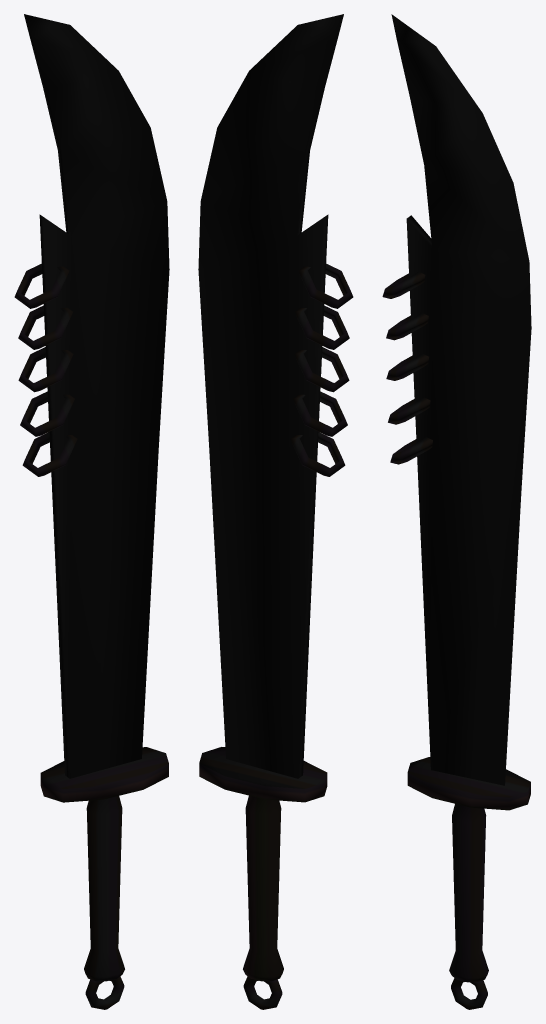
Rendered from fms.fbx.
3 renders of one model, left to right at view 1: azimuth 30°, elevation 25°; view 2: azimuth 150°, elevation 25°; view 3: azimuth 330°, elevation 25°, orthographic. The views are drawn at different scales.
Parts seen in each view (by area): view 1: 0node.001; view 2: 0node.001; view 3: 0node.001.
Boxes of the visible parts, box(x1,y1,x2,y2) form: 0node.001: box(14, 14, 169, 1009); 0node.001: box(198, 14, 353, 1009); 0node.001: box(382, 14, 531, 1009).
Size of the model in its own units: 20.23 by 133 by 8.66.
1 material, 1 textured.
